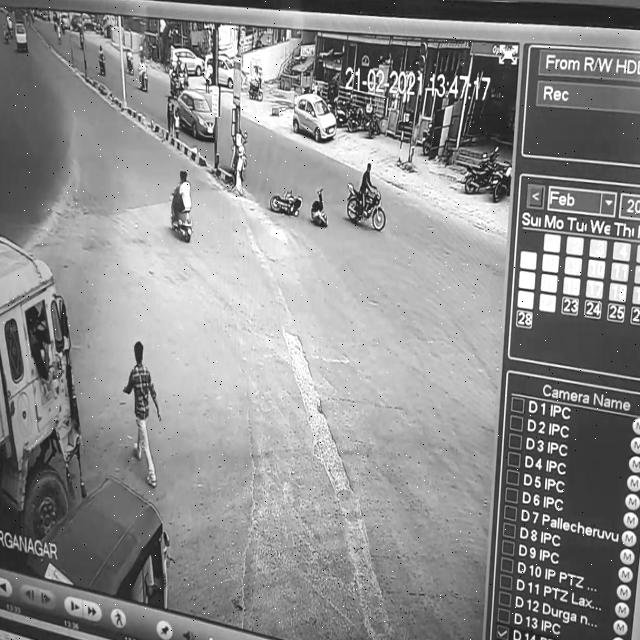accident: (265, 175, 335, 238)
